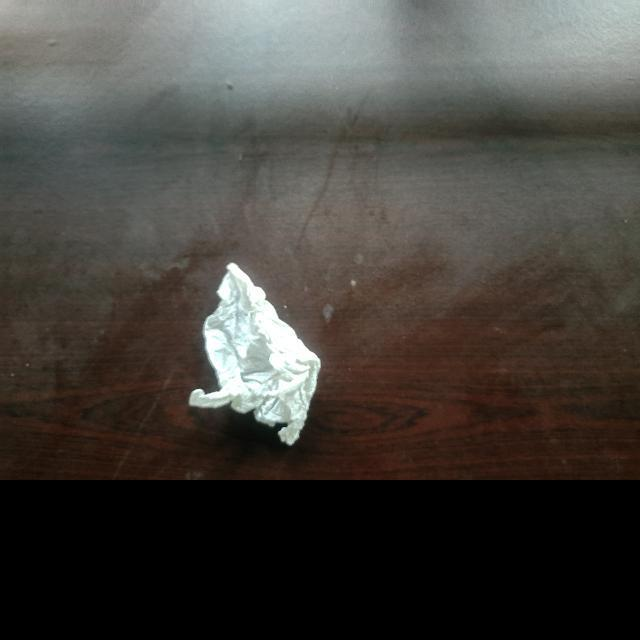kitchen paper: (185, 259, 326, 451)
